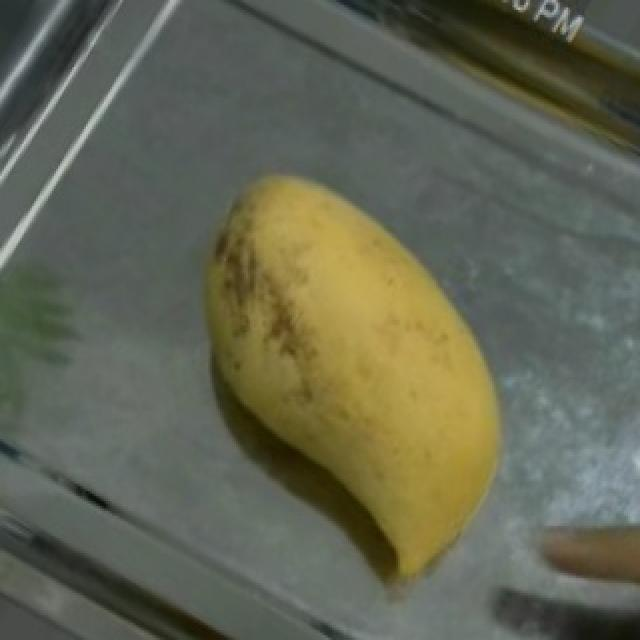fruit: (170, 111, 546, 524)
